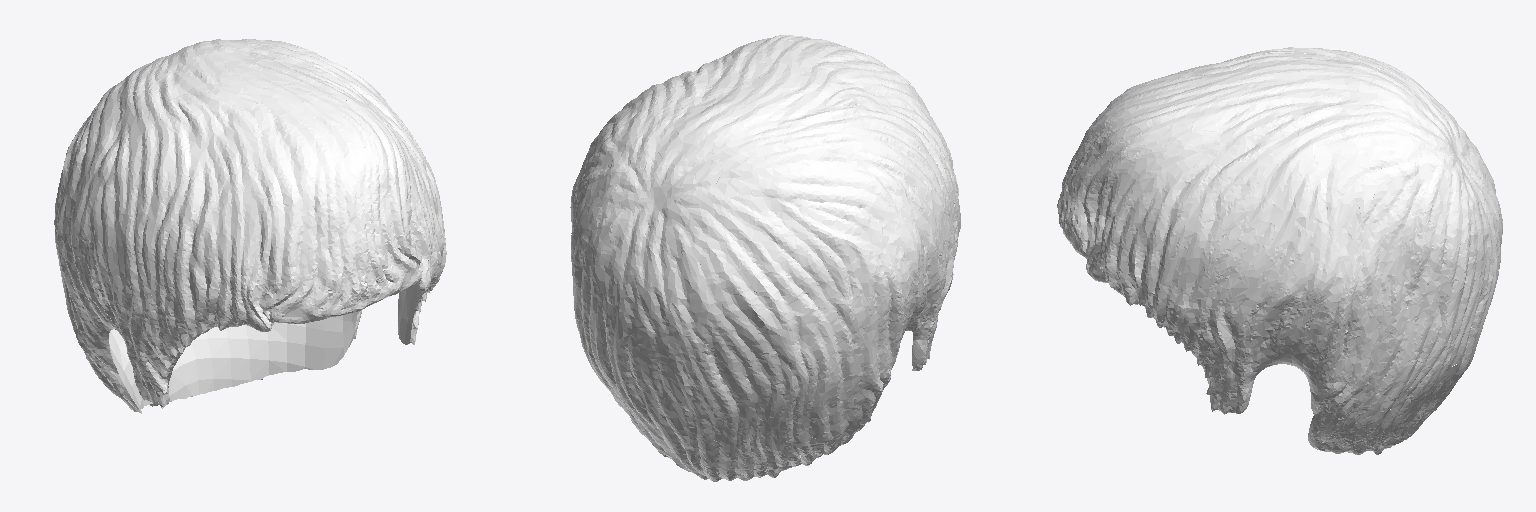
File: kidhair1.obj
The picture shows the model from 3 angles: view 1: azimuth 30°, elevation 25°; view 2: azimuth 150°, elevation 25°; view 3: azimuth 270°, elevation 25°; orthographic projection.
Visible parts, largest first — view 1: hair3v2dazhexUV; view 2: hair3v2dazhexUV; view 3: hair3v2dazhexUV.
Part boxes in pixels (x1,y1,x2,y2): hair3v2dazhexUV: (54,39,446,413); hair3v2dazhexUV: (570,35,960,481); hair3v2dazhexUV: (1057,47,1502,454).
Bounding box in the file's own units: 0.0796 × 0.0827 × 0.0921.